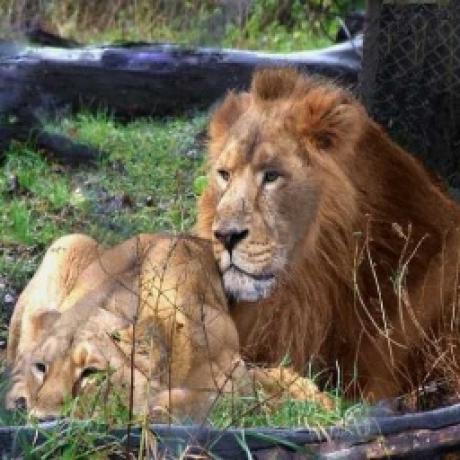Lion: (192, 66, 460, 390), (9, 223, 244, 425)
